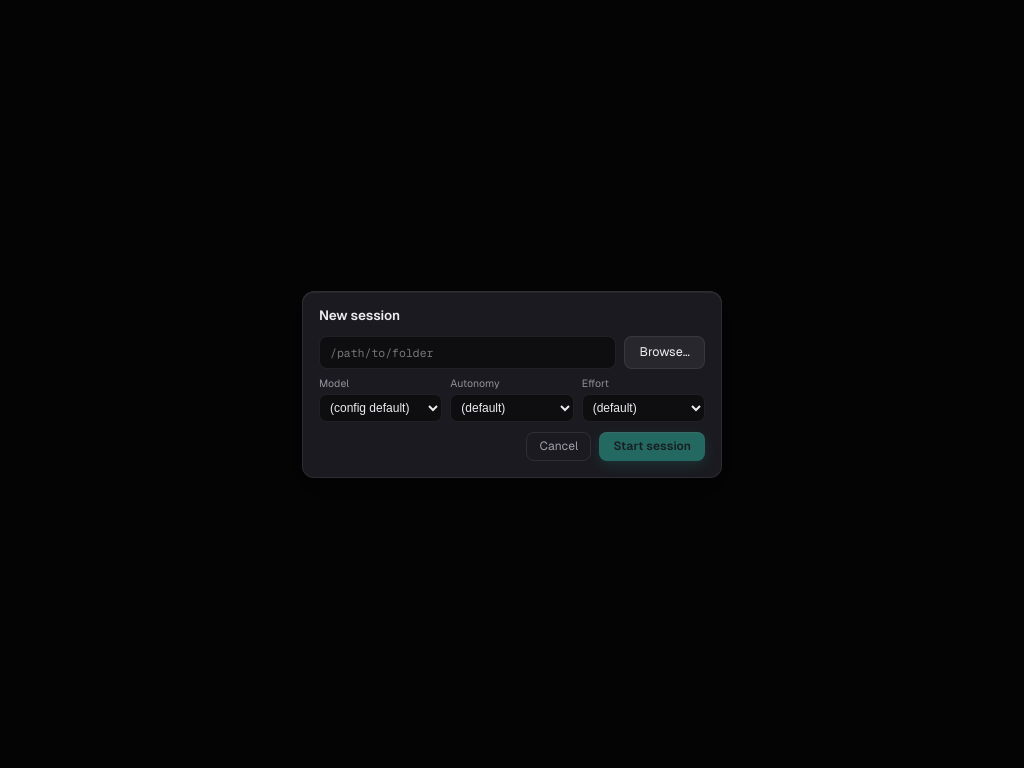
Scenario: NewSessionDialog › surfaces a 400 inline and stays open
This screenshot has width=1024, height=768.
Type "/nope" into the field with placeholder "/path/to/folder" at (468, 352), box [319,336,616,368]
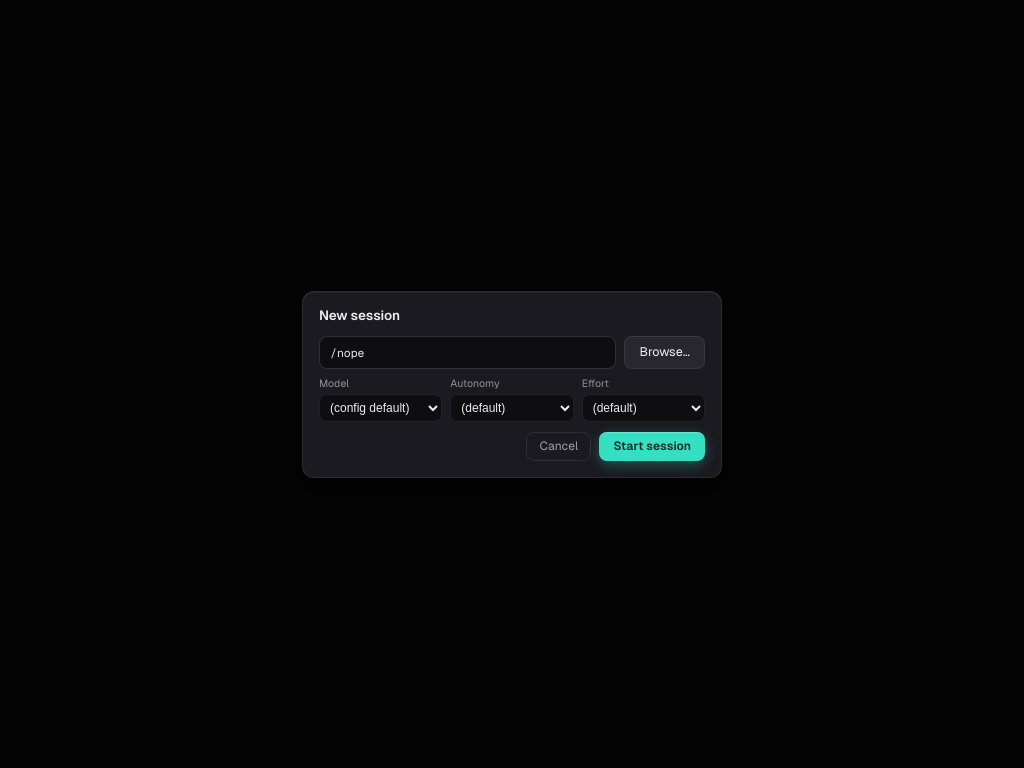
Click the button "Start session" at (652, 446), box [599,432,705,460]
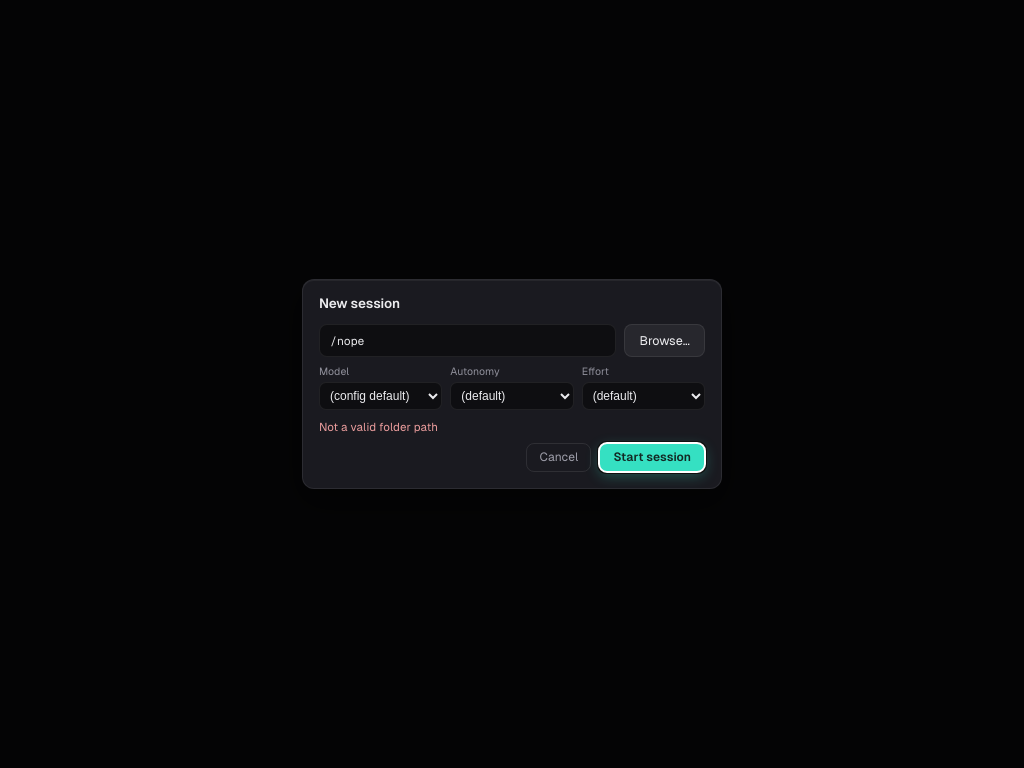
Expected: the text "Not a valid folder path" is shown, [319,420,438,434]
